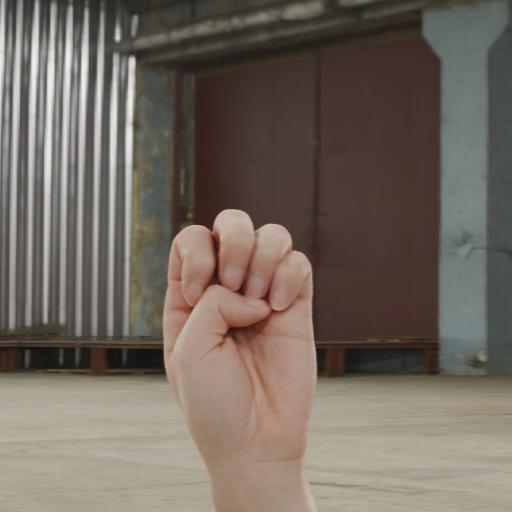E: (152, 201, 330, 474)
